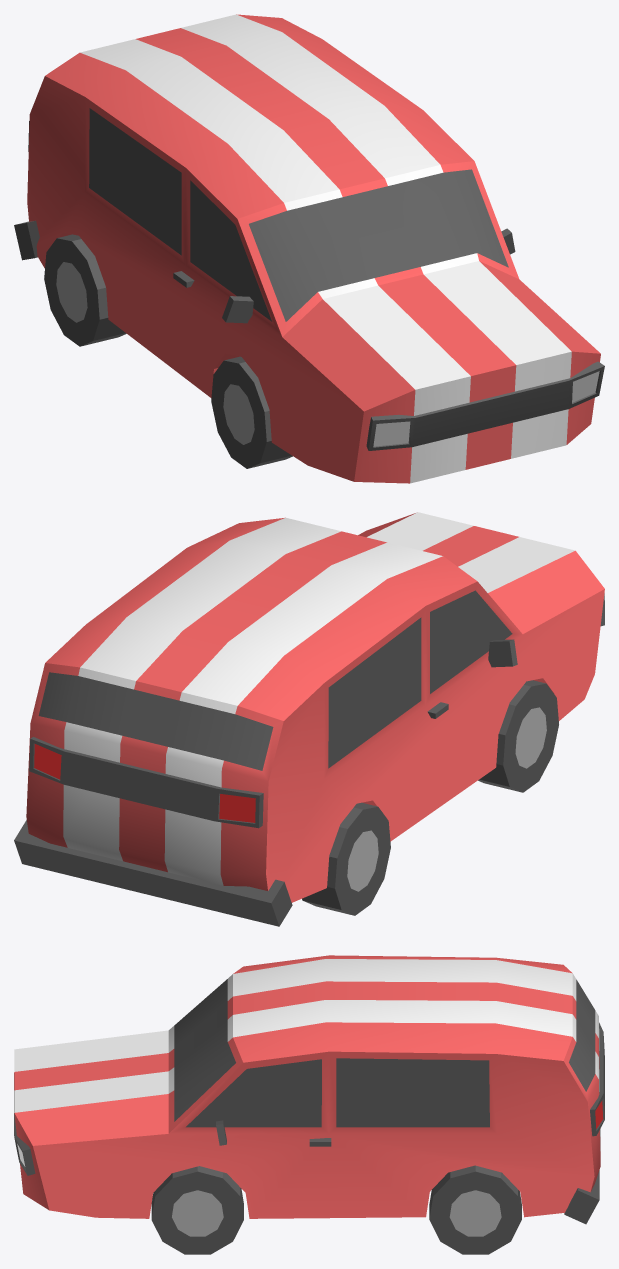
Rendered from SM_Car_07_01.FBX.
The picture shows the model from 3 angles, top to bottom: view 1: azimuth 30°, elevation 25°; view 2: azimuth 150°, elevation 25°; view 3: azimuth 270°, elevation 25°; orthographic projection. The views are drawn at different scales.
Parts seen in each view (by area): view 1: SM_Car_07_01, SM_Wheel_RBack001, SM_Wheel_LFront001; view 2: SM_Car_07_01, SM_Wheel_RBack001, SM_Wheel_LFront001; view 3: SM_Car_07_01, SM_Wheel_LBack001, SM_Wheel_LFront002.
Part boxes in pixels (x1,y1,x2,y2): SM_Car_07_01: (14,14,604,483); SM_Wheel_RBack001: (44,234,126,346); SM_Wheel_LFront001: (211,356,292,468); SM_Car_07_01: (14,512,604,926); SM_Wheel_RBack001: (302,802,390,915); SM_Wheel_LFront001: (478,680,558,792); SM_Car_07_01: (14,955,604,1224); SM_Wheel_LBack001: (429,1165,521,1254); SM_Wheel_LFront002: (151,1166,243,1254).
Size of the model in its own units: 1.49 by 1.21 by 3.16.
1 material, 1 textured.
